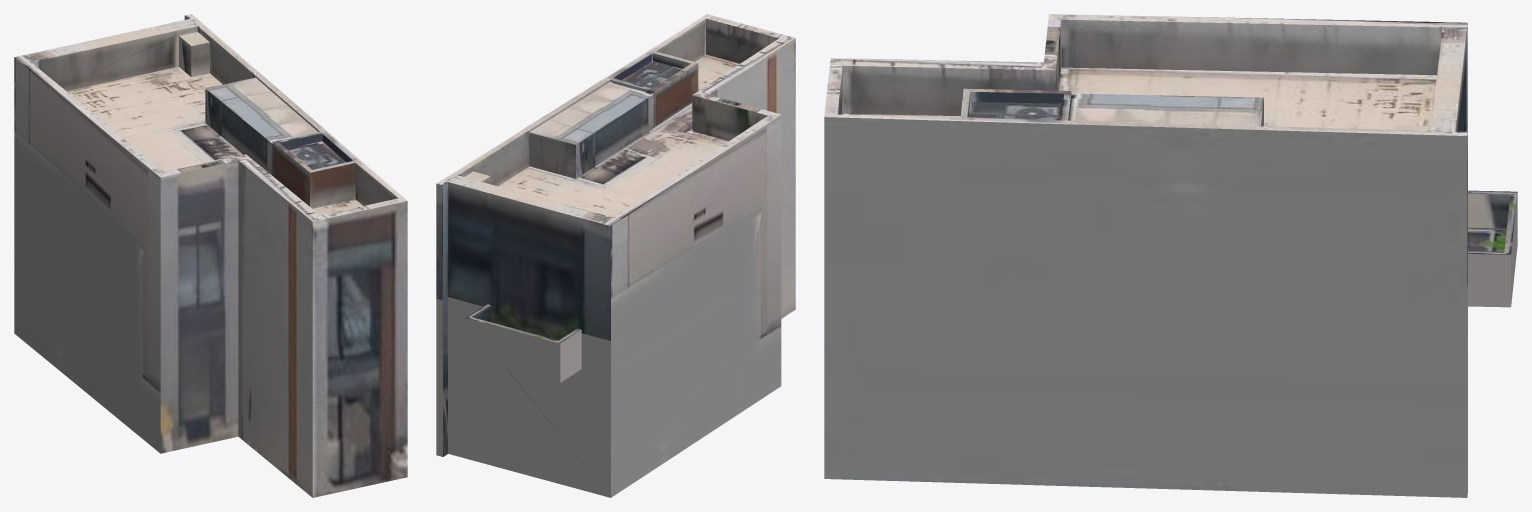
3 views of the same model, side by side, from view 1: azimuth 30°, elevation 25°; view 2: azimuth 150°, elevation 25°; view 3: azimuth 270°, elevation 25° (orthographic). The views are drawn at different scales.
Parts seen in each view (by area): view 1: B283914038301062A0; view 2: B283914038301062A0; view 3: B283914038301062A0.
Part boxes in pixels (x1,y1,x2,y2): B283914038301062A0: (14,14,407,497); B283914038301062A0: (436,14,795,497); B283914038301062A0: (824,14,1517,497).
Size of the model in its own units: 6.78 by 9.37 by 16.28.
Materials: 1 (1 with a texture image).
